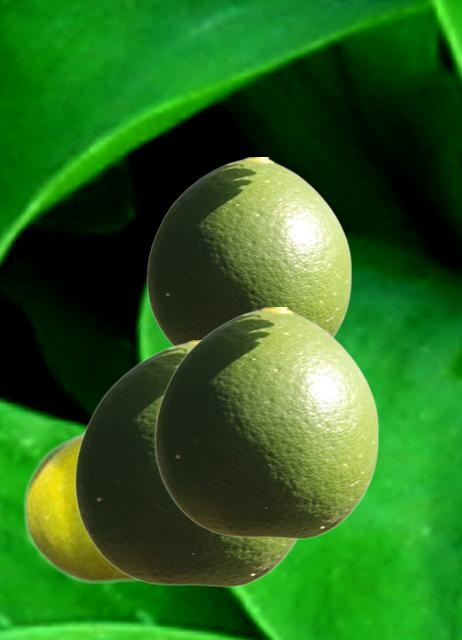dalandan: (74, 340, 298, 586), (154, 307, 378, 538), (146, 157, 351, 345), (22, 429, 148, 584)
